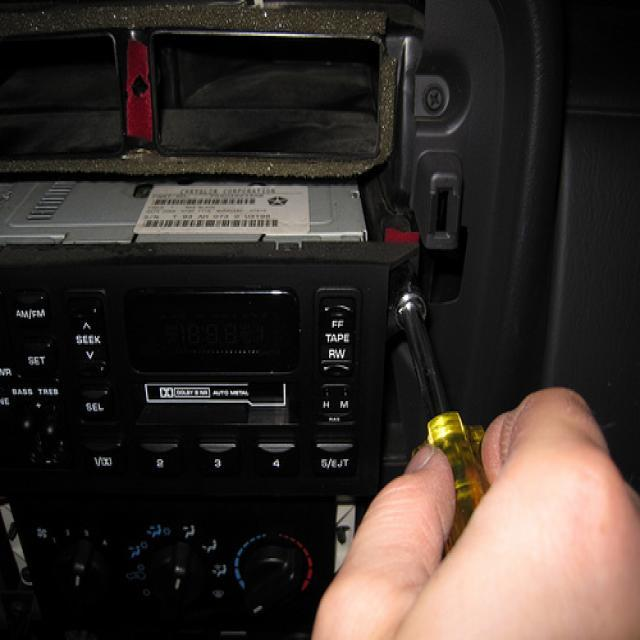screwdriver: (387, 272, 513, 605)
